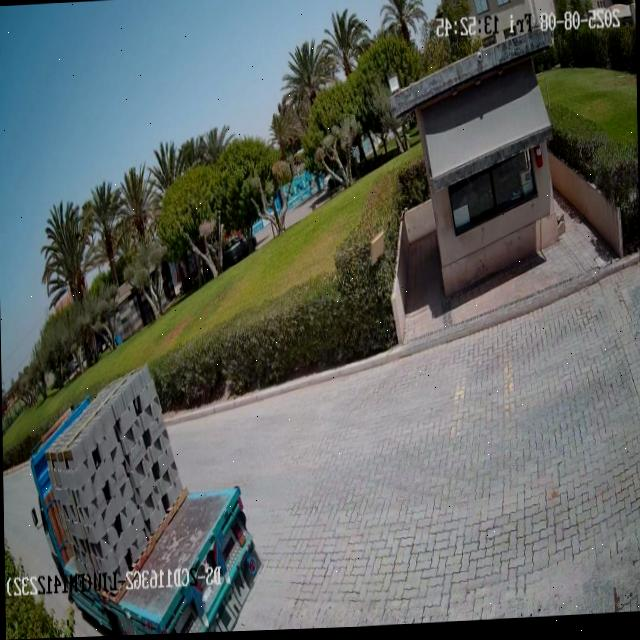bricks: (46, 366, 184, 588)
